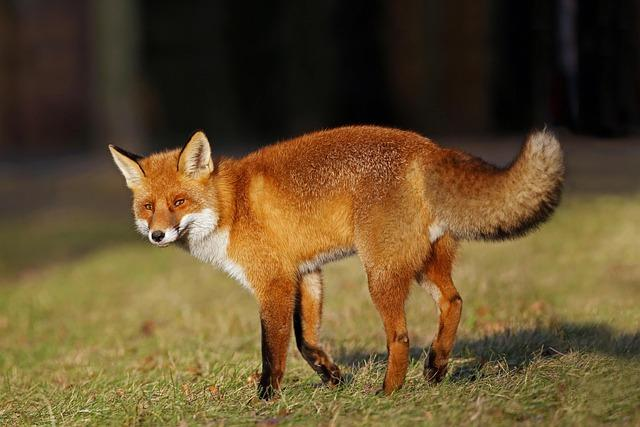Non_Gorille: (74, 52, 640, 417)
